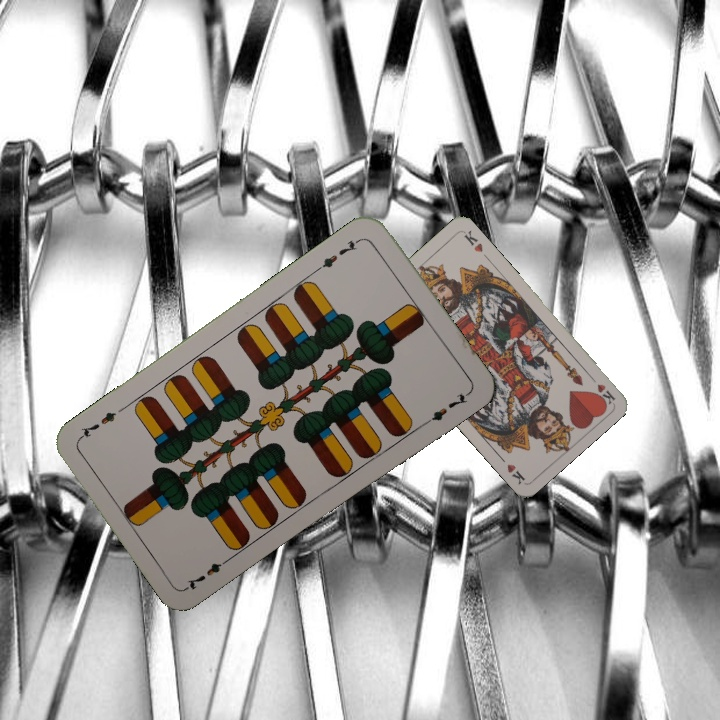E7: (312, 234, 364, 274), (182, 553, 234, 593)
HK: (585, 370, 618, 406)
